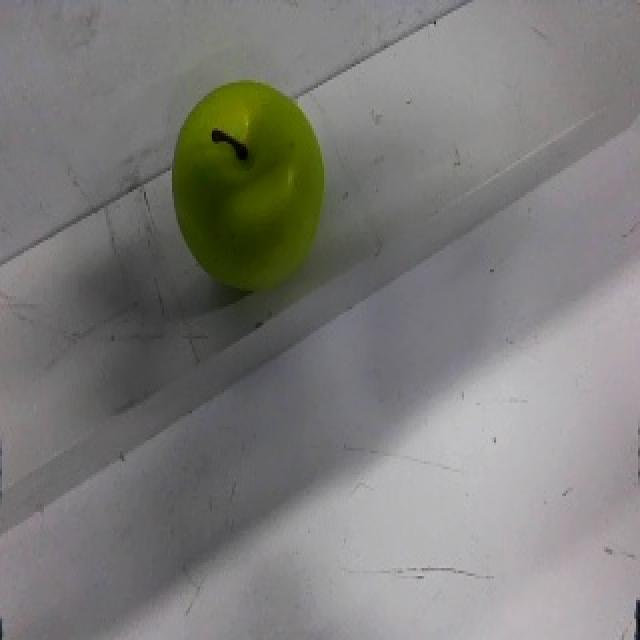apple: (168, 78, 327, 297)
